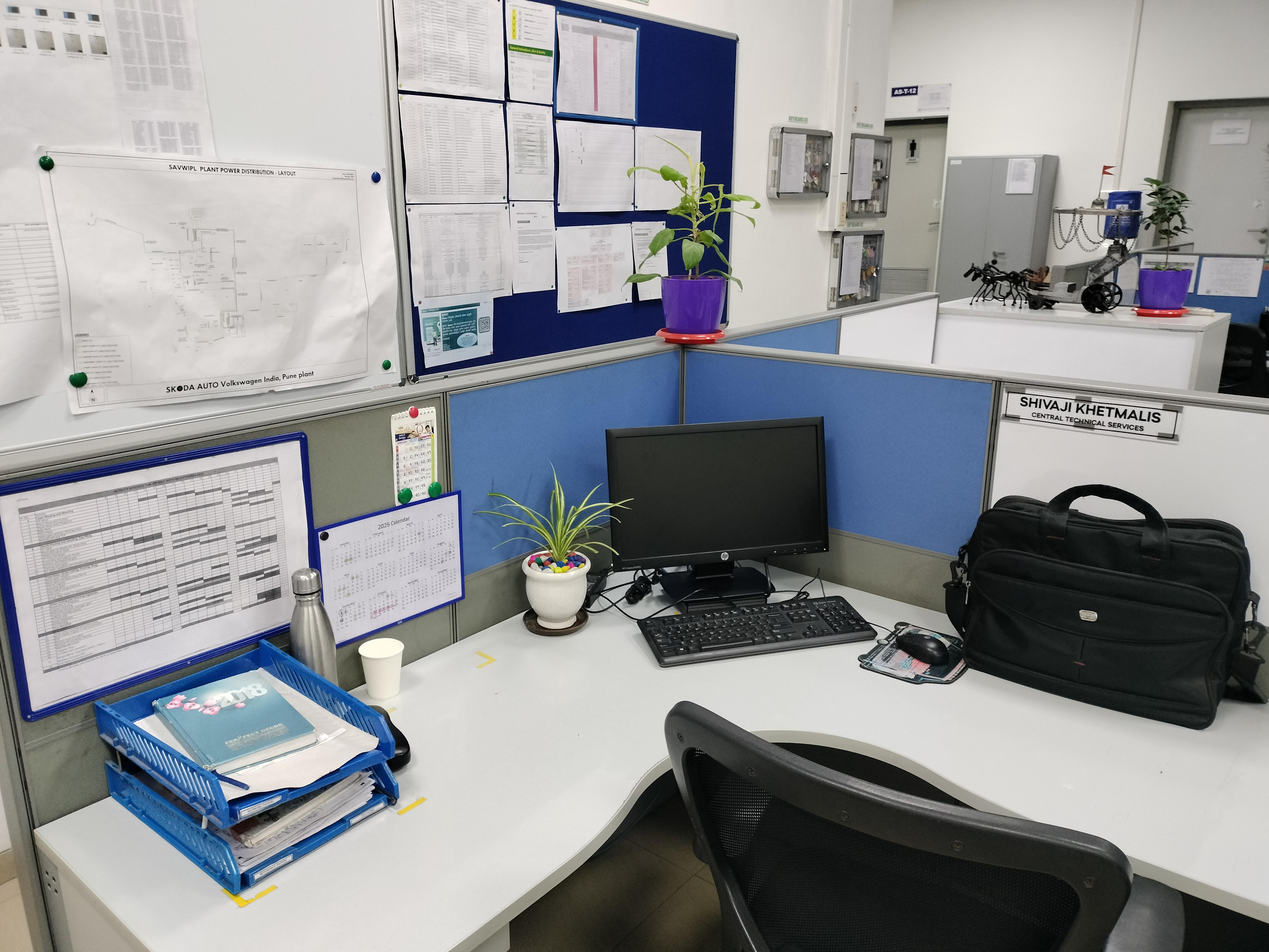bag: (939, 481, 1268, 732)
book: (154, 668, 320, 778), (226, 771, 364, 853)
bottle: (288, 566, 341, 687)
calender: (315, 488, 466, 652), (390, 404, 439, 507)
desktop: (605, 415, 830, 609)
filetray: (93, 635, 403, 898)
keyboard: (635, 594, 880, 670)
mouse: (891, 630, 951, 668)
mug: (357, 636, 406, 701)
nameplate: (996, 381, 1187, 448)
page: (0, 429, 318, 724)
vase: (519, 548, 594, 629), (657, 272, 729, 347)
